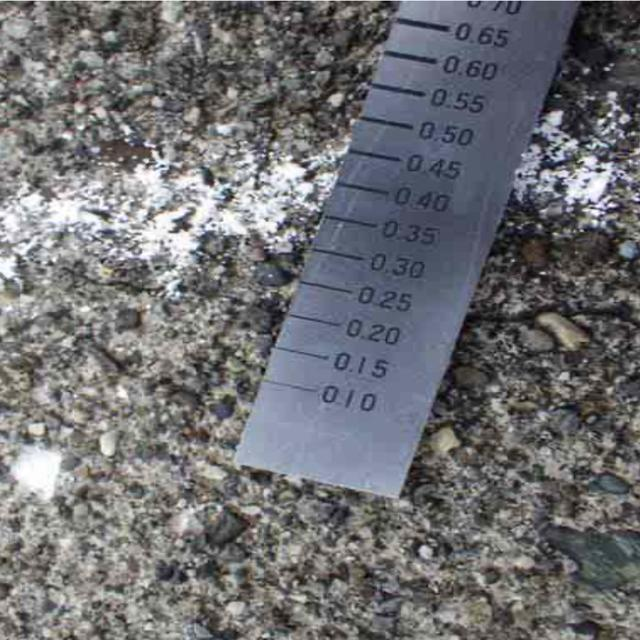crack: (42, 247, 272, 323), (470, 287, 640, 349)
